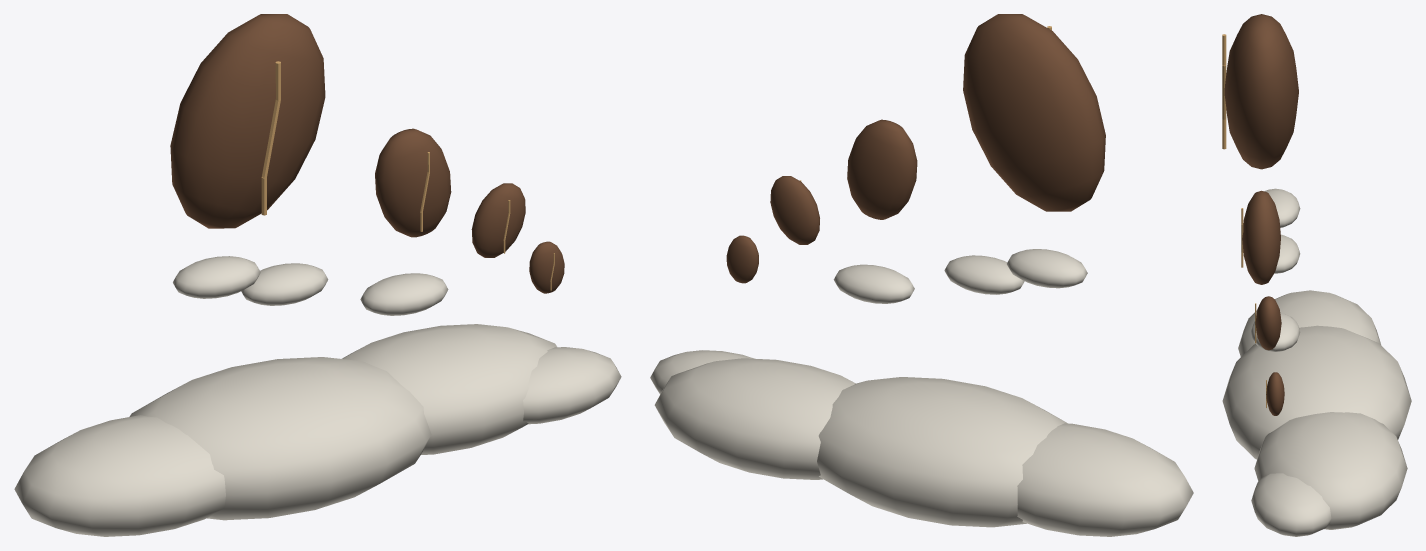
Rendered from orb3_drifting_bean_cluster_7m.glb.
3 views of the same model, side by side, from view 1: azimuth 30°, elevation 25°; view 2: azimuth 150°, elevation 25°; view 3: azimuth 270°, elevation 25° (orthographic). The views are drawn at different scales.
Parts seen in each view (by area): view 1: orb3_drifting_bean_cluster_7m__orb3-foam-cream, orb3_drifting_bean_cluster_7m__orb3-roasted-coffee, orb3_drifting_bean_cluster_7m__orb3-brushed-brass; view 2: orb3_drifting_bean_cluster_7m__orb3-foam-cream, orb3_drifting_bean_cluster_7m__orb3-roasted-coffee; view 3: orb3_drifting_bean_cluster_7m__orb3-foam-cream, orb3_drifting_bean_cluster_7m__orb3-roasted-coffee, orb3_drifting_bean_cluster_7m__orb3-brushed-brass.
Boxes of the visible parts, box(x1,y1,x2,y2) form: orb3_drifting_bean_cluster_7m__orb3-foam-cream: box(14, 256, 621, 536); orb3_drifting_bean_cluster_7m__orb3-roasted-coffee: box(170, 14, 564, 293); orb3_drifting_bean_cluster_7m__orb3-brushed-brass: box(261, 61, 554, 290); orb3_drifting_bean_cluster_7m__orb3-foam-cream: box(650, 249, 1193, 536); orb3_drifting_bean_cluster_7m__orb3-roasted-coffee: box(726, 14, 1105, 283); orb3_drifting_bean_cluster_7m__orb3-foam-cream: box(1222, 188, 1411, 536); orb3_drifting_bean_cluster_7m__orb3-roasted-coffee: box(1224, 14, 1298, 415); orb3_drifting_bean_cluster_7m__orb3-brushed-brass: box(1222, 34, 1266, 407).
Bounding box in the file's own units: 7.8 × 6.57 × 2.73.
